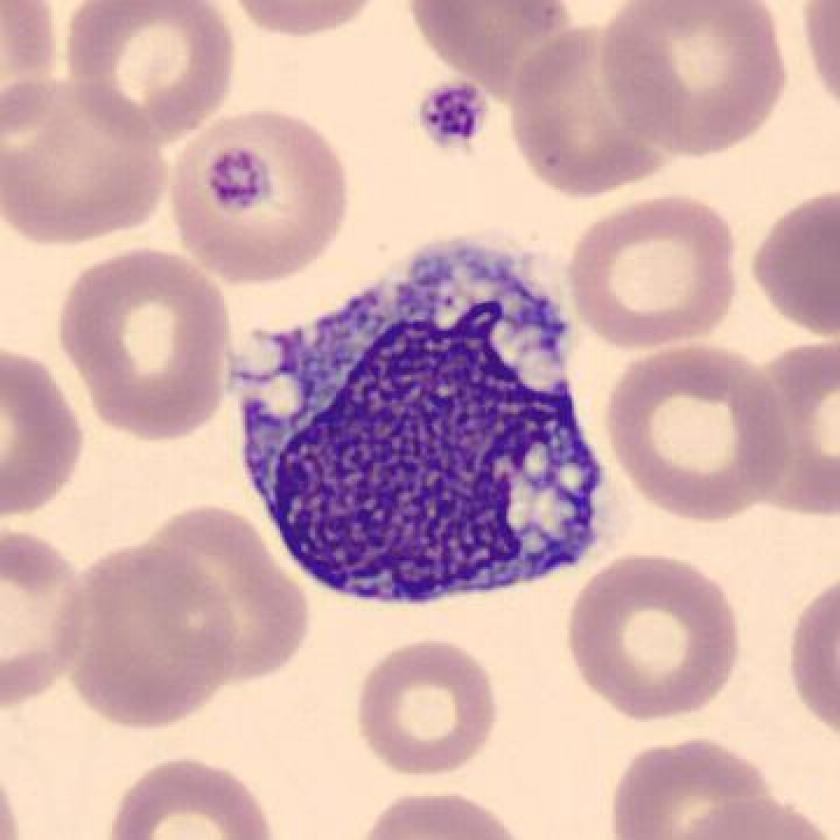monocyte: (214, 221, 641, 626)
